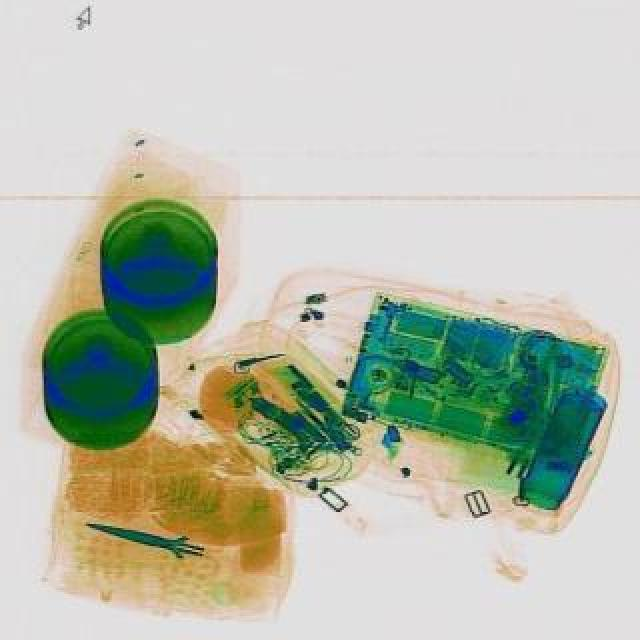knife: (80, 508, 208, 564)
